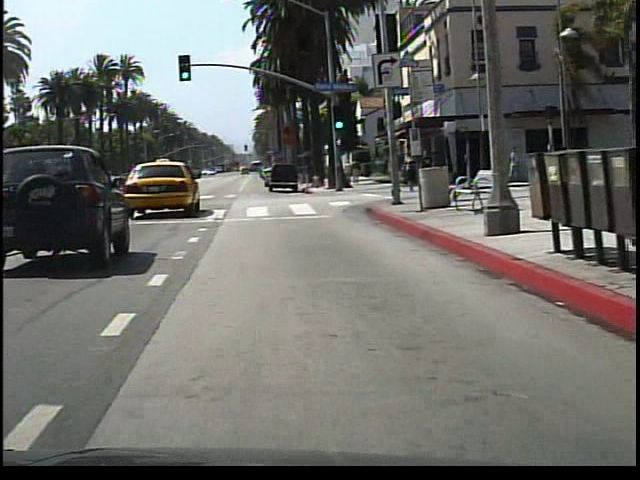person: (395, 148, 411, 196), (504, 142, 518, 182)
